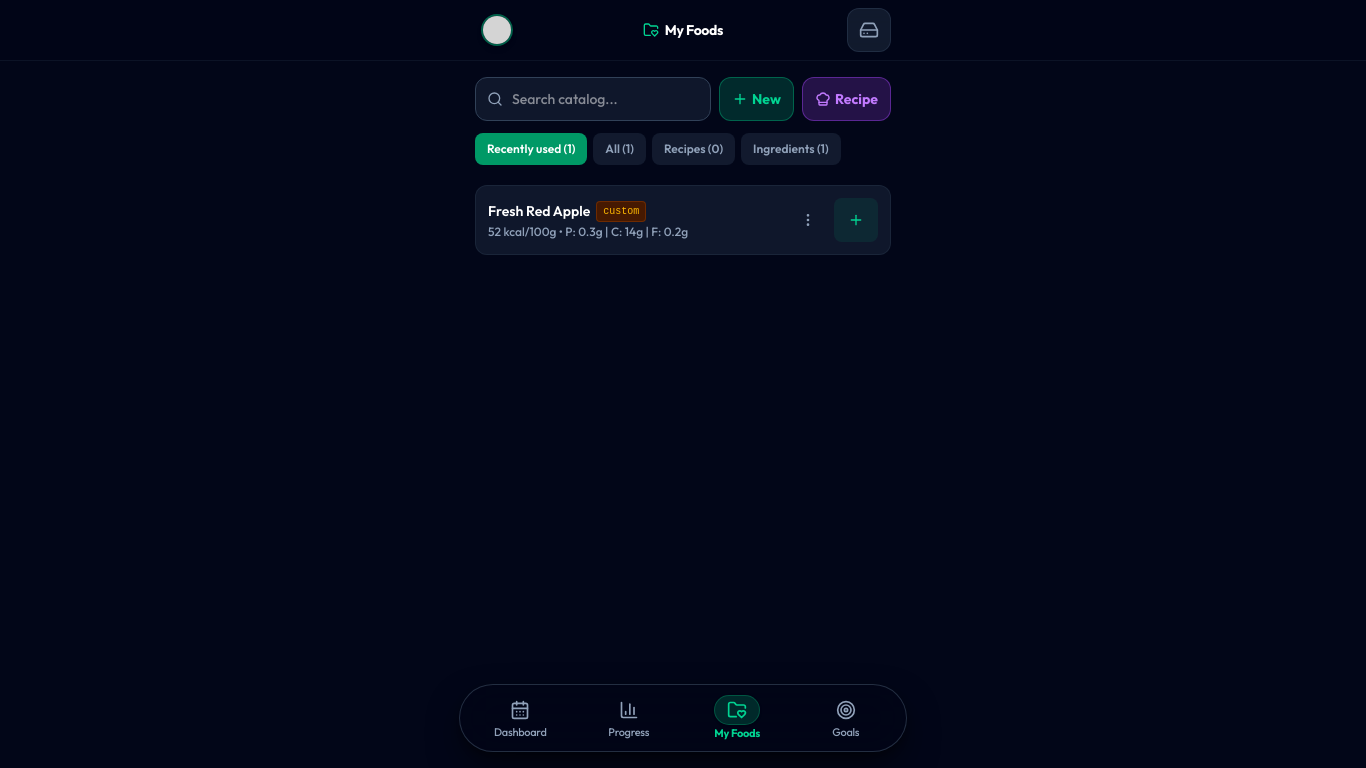
Scenario: Slide-Over Navigation History & Contextual Back Button › Journey 7: opens RecipeBuilder as slide-over with Back button and returns to Catalog
Expected: the text "Recipe" is shown, [835,89,878,109]
What coordinates should you click on to do the following:
click the button "Recipe"
I would click on:
 (846, 99)
Its box is [802,77,891,121].
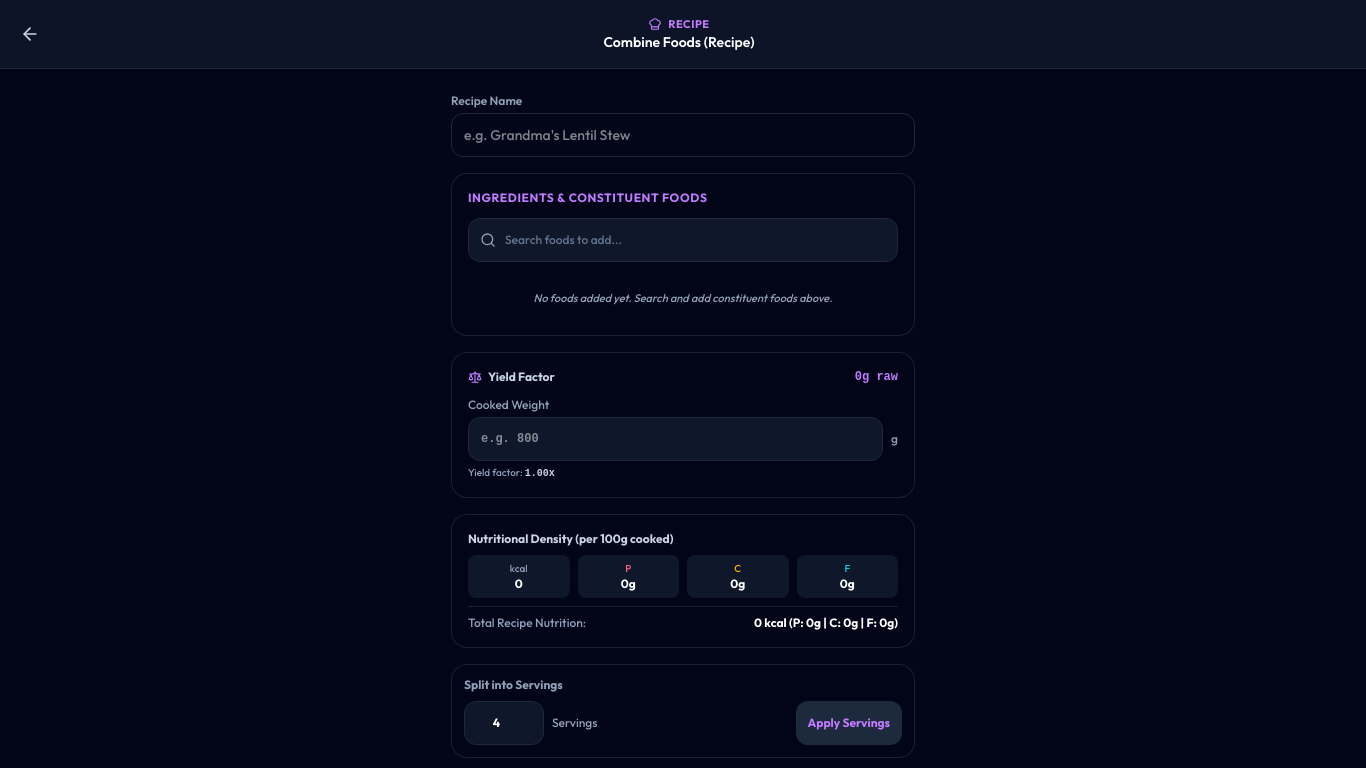
Now the dialog "Combine Foods (Recipe)" is shown
Now the button with test id "btn-back-recipe-builder" is shown
// Click Back button
What coordinates should you click on to do the following:
click the button with test id "btn-back-recipe-builder"
I would click on:
 (30, 34)
Its box is [8,12,52,56].
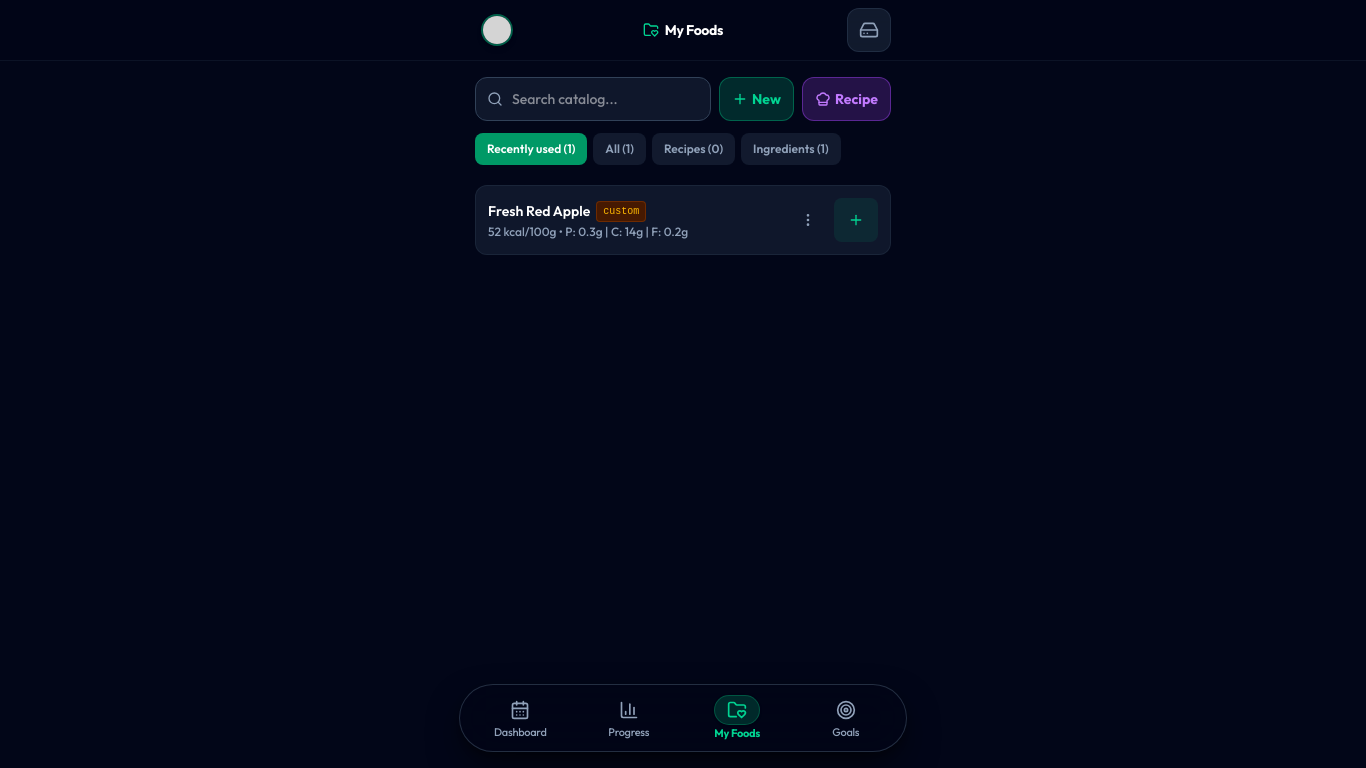
Expected: the element with test id "catalog-screen" is shown, [475,77,891,255]
Now the heading "Combine Foods (Recipe)" is gone
